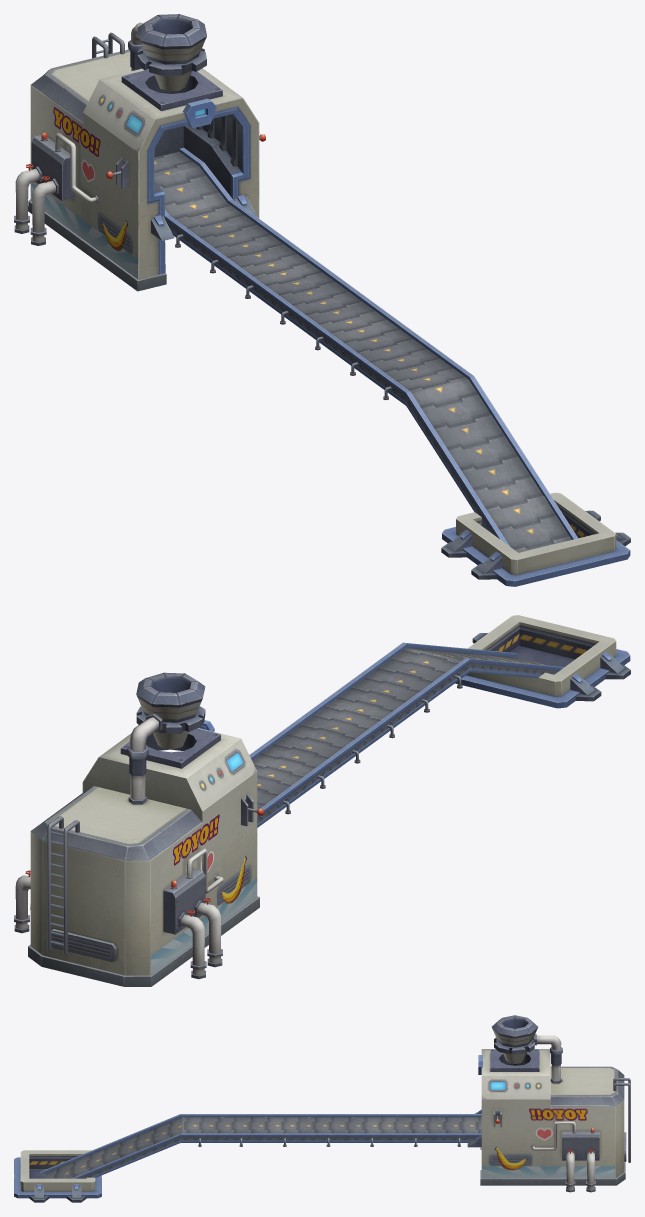
Rendered from sc_wjgc_003_001.FBX.
3 renders of one model, top to bottom at view 1: azimuth 30°, elevation 25°; view 2: azimuth 150°, elevation 25°; view 3: azimuth 270°, elevation 25°, orthographic. The views are drawn at different scales.
Visible parts, largest first — view 1: sc_wjgc_003_002, sc_liuliuhouliantiao_001; view 2: sc_wjgc_003_002, sc_liuliuhouliantiao_001; view 3: sc_wjgc_003_002, sc_liuliuhouliantiao_001.
Part boxes in pixels (left/top/right/bottom): sc_wjgc_003_002: left=14, top=14, right=630, bottom=586; sc_liuliuhouliantiao_001: left=154, top=151, right=571, bottom=552; sc_wjgc_003_002: left=14, top=615, right=630, bottom=986; sc_liuliuhouliantiao_001: left=252, top=647, right=547, bottom=809; sc_wjgc_003_002: left=14, top=1015, right=630, bottom=1202; sc_liuliuhouliantiao_001: left=46, top=1117, right=481, bottom=1178.
Size of the model in its own units: 12.88 by 16.28 by 56.8.
